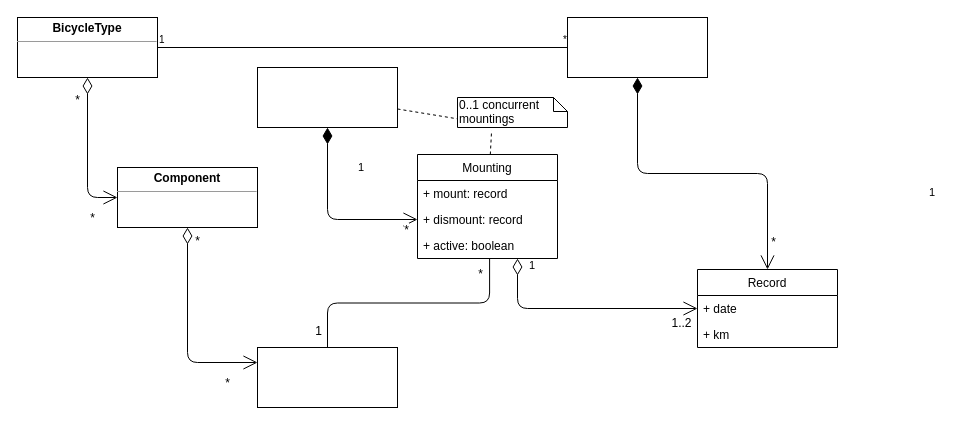
Image size: 953x425. Some labels were removed from this diagram. Each missing label, with the centre of its shape:
"Bicycle" belongs at point 637,47.
"Material" belongs at point 327,97.
"Part" belongs at point 327,377.
